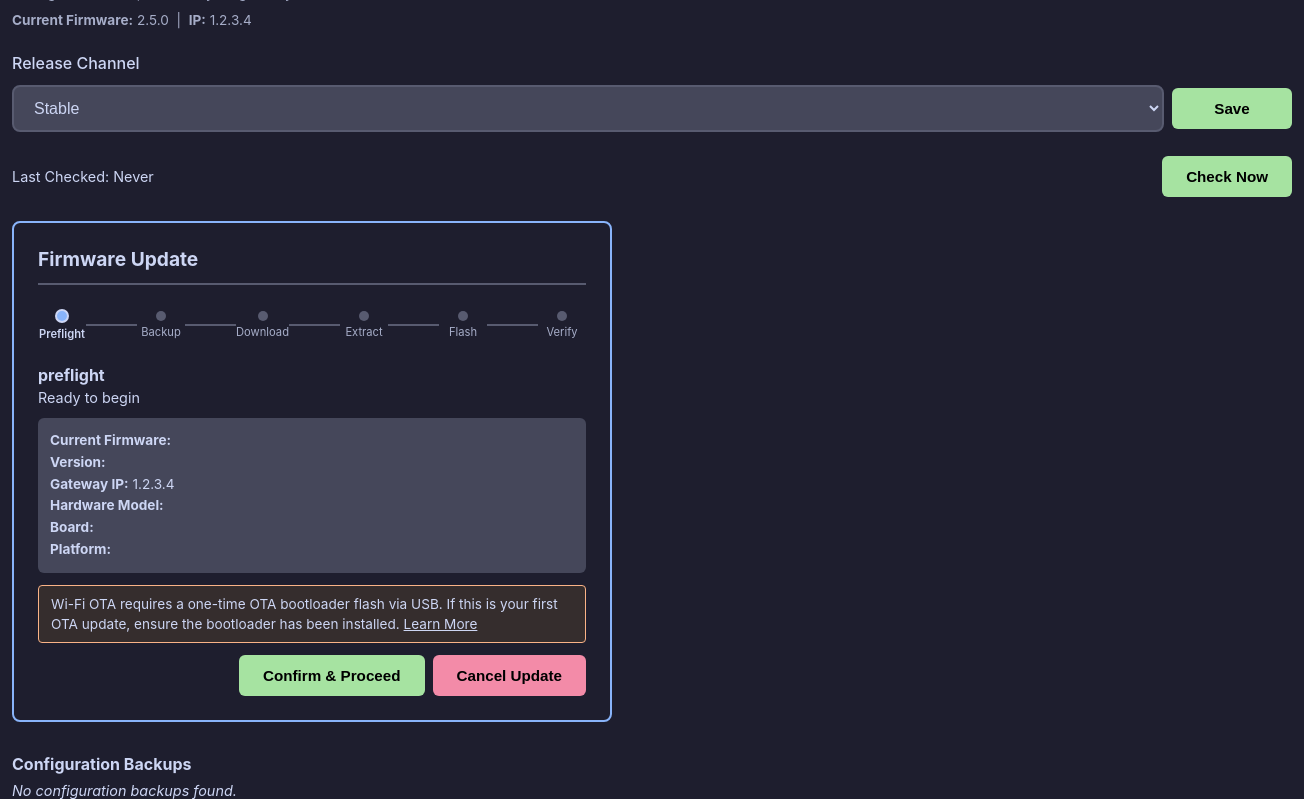
FirmwareUpdateSection — half-flash recovery panel (issue #3413) › shows the inline recovery panel (not a raw toast) when confirm returns the 409
(page scrolled)
Click the button "Confirm & Proceed".
click(332, 676)  # box [239,655,424,696]
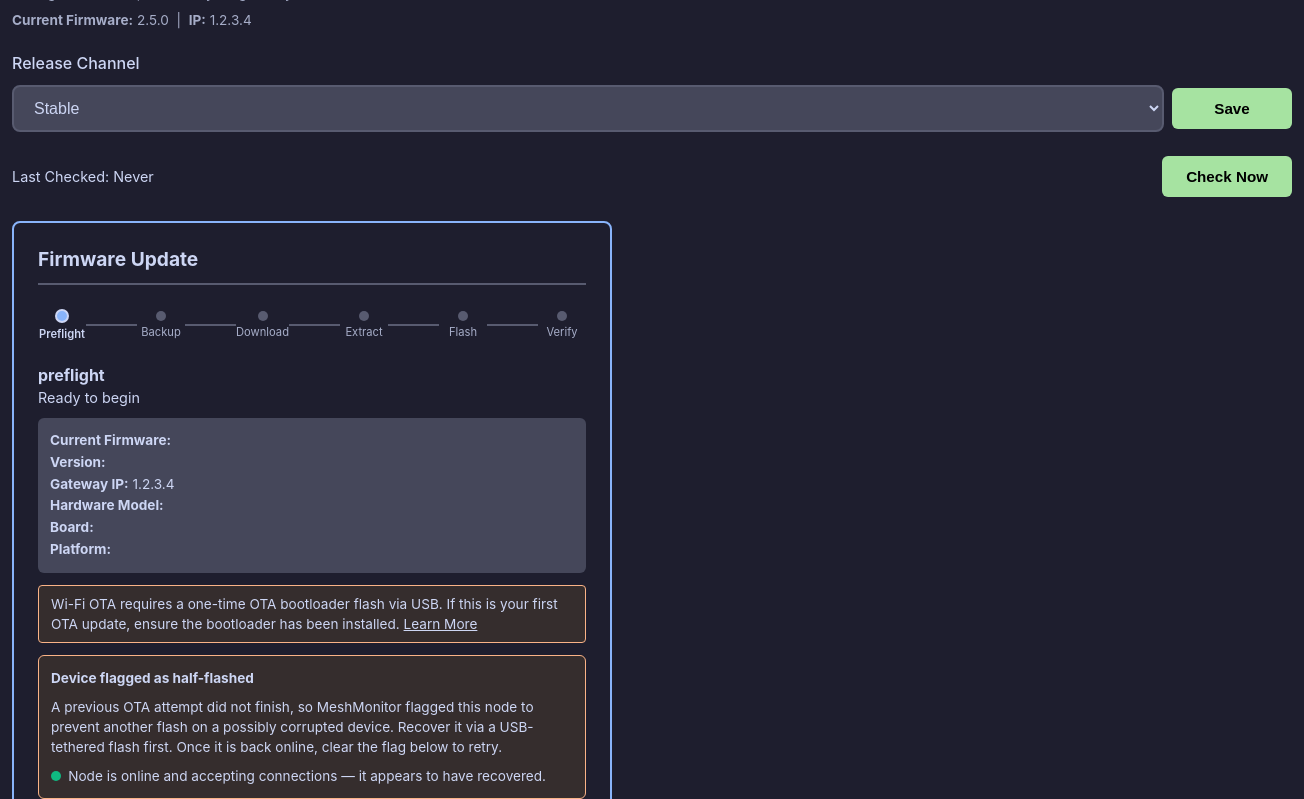
Check: the text "Device flagged as half-flashed" is shown, box [51,670,254,686]
